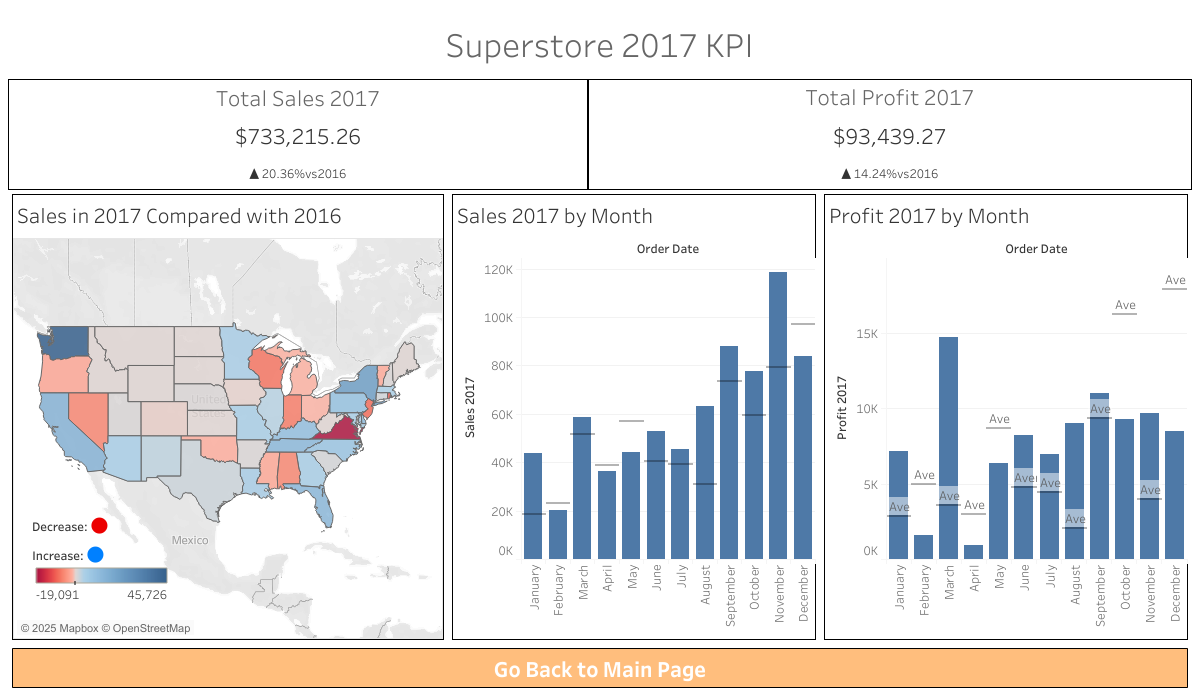

The page's visual inventory and layout, read from the dashboard file:
{"tool":"tableau","page":{"name":"KPI 2017","canvas":[1200,700],"ordinal":1},"visuals":[{"type":"text","box":[8,8,1184,71.4]},{"type":"text","box":[9,80.4,578,34]},{"type":"text","box":[589,80.4,602,32]},{"type":"worksheet","title":"Profit vs 2016","mark":"Automatic","box":[589,112.4,602,46]},{"type":"worksheet","title":"Sales vs 2016","mark":"Automatic","box":[9,114.4,578,42.6]},{"type":"worksheet","title":"Sales Diff","mark":"Automatic","box":[9,157,578,32]},{"type":"worksheet","title":"Profit Diff","mark":"Automatic","box":[589,158.4,602,30.6]},{"type":"worksheet","title":"Sales vs 2016 Map","mark":"Automatic","box":[8,190,440,454]},{"type":"worksheet","title":"Sales 2017 by Month","mark":"Bar","rows":["Calculation_1073264134553690115"],"cols":["Order Date"],"box":[448,190,372,454]},{"type":"worksheet","title":"Profit 2017 by Month","mark":"Bar","rows":["Calculation_1073264134558814215"],"cols":["Order Date"],"box":[819.9,190,372,454]},{"type":"legend","title":"Sales vs 2016 Map","param":"[federated.1cjwt6l0jaw0pu14xddow1wtyck2].[usr:Calculation_1073264134569836554:qk","box":[32,504,140,111]},{"type":"dashboard-object","box":[8,644,1184,48]}]}

Visuals, with their boxes in screenshot pixels (x1, y1, x2, y2), scaled from the page's 1200x700 canvas onto the 1199x699 screenshot:
text: 8,8,1191,79
text: 9,80,587,114
text: 589,80,1190,112
"Profit vs 2016" worksheet: 589,112,1190,158
"Sales vs 2016" worksheet: 9,114,587,157
"Sales Diff" worksheet: 9,157,587,189
"Profit Diff" worksheet: 589,158,1190,189
"Sales vs 2016 Map" worksheet: 8,190,448,643
"Sales 2017 by Month" worksheet (Bar marks): 448,190,819,643
"Profit 2017 by Month" worksheet (Bar marks): 819,190,1191,643
"Sales vs 2016 Map" legend: 32,503,172,614
dashboard-object: 8,643,1191,691
